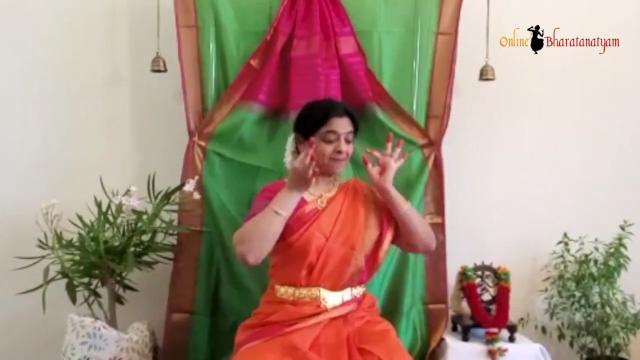hansaasya: (360, 117, 418, 213)
